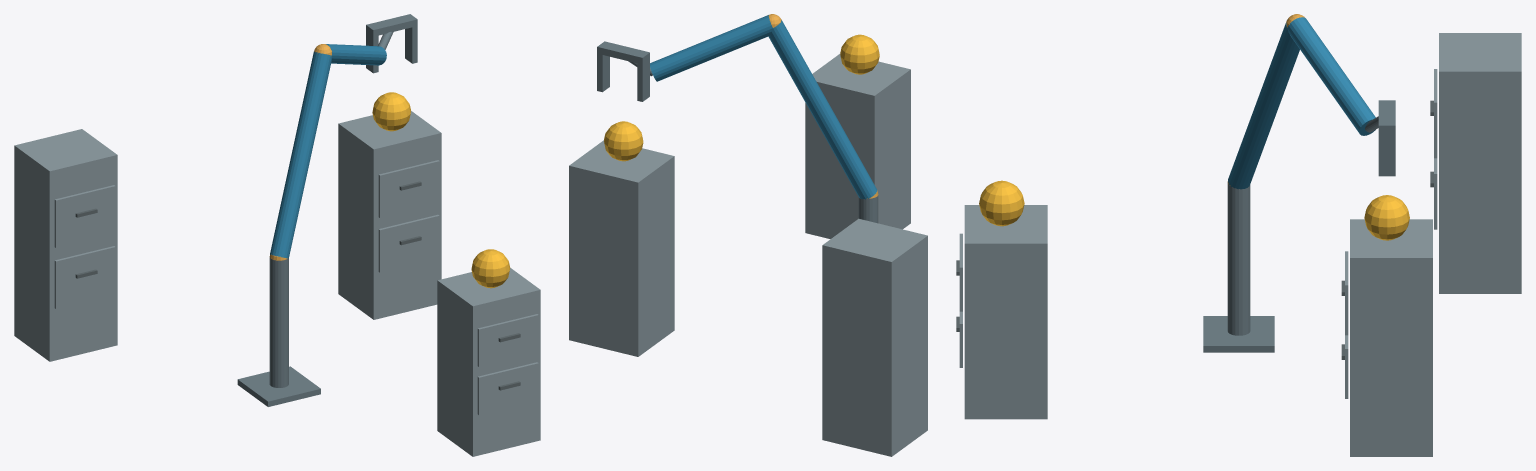
3 views of the same model, side by side, from view 1: azimuth 30°, elevation 25°; view 2: azimuth 150°, elevation 25°; view 3: azimuth 270°, elevation 25° (orthographic). The views are drawn at different scales.
Visible parts, largest first — view 1: cabinet_3 body, cabinet_2 body, cabinet_1 body, moving link 1, cabinet_3 drawer front, cabinet_3 drawer front.001, cabinet_2 drawer front, cabinet_2 drawer front.001, fixed post, cabinet_1 drawer front.001, cabinet_1 drawer front, pedestal (+4 smaller); view 2: cabinet_3 body, cabinet_2 body, cabinet_1 body, moving link 1, moving link 2, released ball_1, ball ball_2, gripper bridge, gripper finger -1, fixed post, gripper finger 1; view 3: cabinet_3 body, cabinet_2 body, cabinet_1 body, moving link 1, fixed post, moving link 2, pedestal, ball ball_2, released ball_1, gripper finger 1, gripper bridge.
Part boxes in pixels (x1,y1,x2,y2): cabinet_3 body: (14, 129, 117, 361); cabinet_2 body: (338, 111, 441, 319); cabinet_1 body: (437, 268, 540, 456); moving link 1: (270, 51, 332, 258); cabinet_3 drawer front: (54, 246, 115, 308); cabinet_3 drawer front.001: (54, 185, 115, 247); cabinet_2 drawer front: (378, 214, 439, 272); cabinet_2 drawer front.001: (378, 160, 439, 218); fixed post: (269, 257, 288, 387); cabinet_1 drawer front.001: (477, 314, 538, 366); cabinet_1 drawer front: (477, 362, 538, 415); pedestal: (237, 366, 320, 406); cabinet_3 body: (822, 218, 927, 456); cabinet_2 body: (569, 140, 674, 356); cabinet_1 body: (805, 54, 910, 238); moving link 1: (768, 20, 877, 199); moving link 2: (650, 15, 772, 81); released ball_1: (840, 34, 879, 74); ball ball_2: (604, 121, 643, 161); gripper bridge: (597, 41, 649, 64); gripper finger -1: (637, 59, 649, 101); fixed post: (858, 195, 878, 223); gripper finger 1: (597, 53, 609, 92); cabinet_3 body: (1439, 33, 1521, 293); cabinet_2 body: (1350, 219, 1432, 456); cabinet_1 body: (964, 205, 1047, 419); moving link 1: (1228, 22, 1299, 189); fixed post: (1227, 183, 1250, 335); moving link 2: (1287, 17, 1375, 135); pedestal: (1203, 316, 1274, 352); ball ball_2: (1364, 195, 1409, 240); released ball_1: (979, 180, 1024, 226); gripper finger 1: (1378, 133, 1395, 176); gripper bridge: (1378, 100, 1395, 133).
Size of the model in its own units: 1.67 by 1.4 by 1.98.
